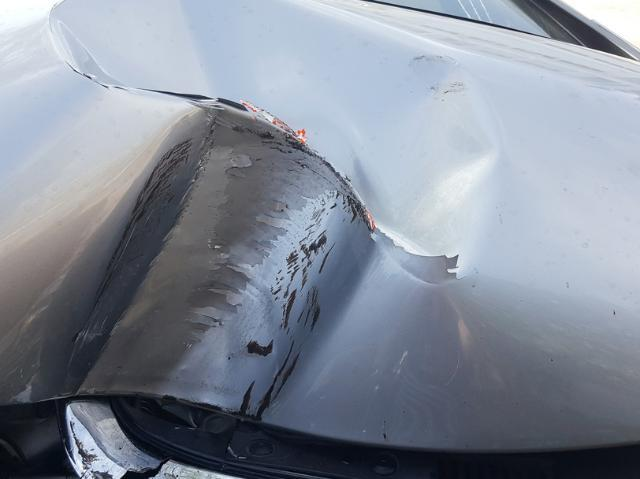Bonnet: (24, 16, 491, 443)
